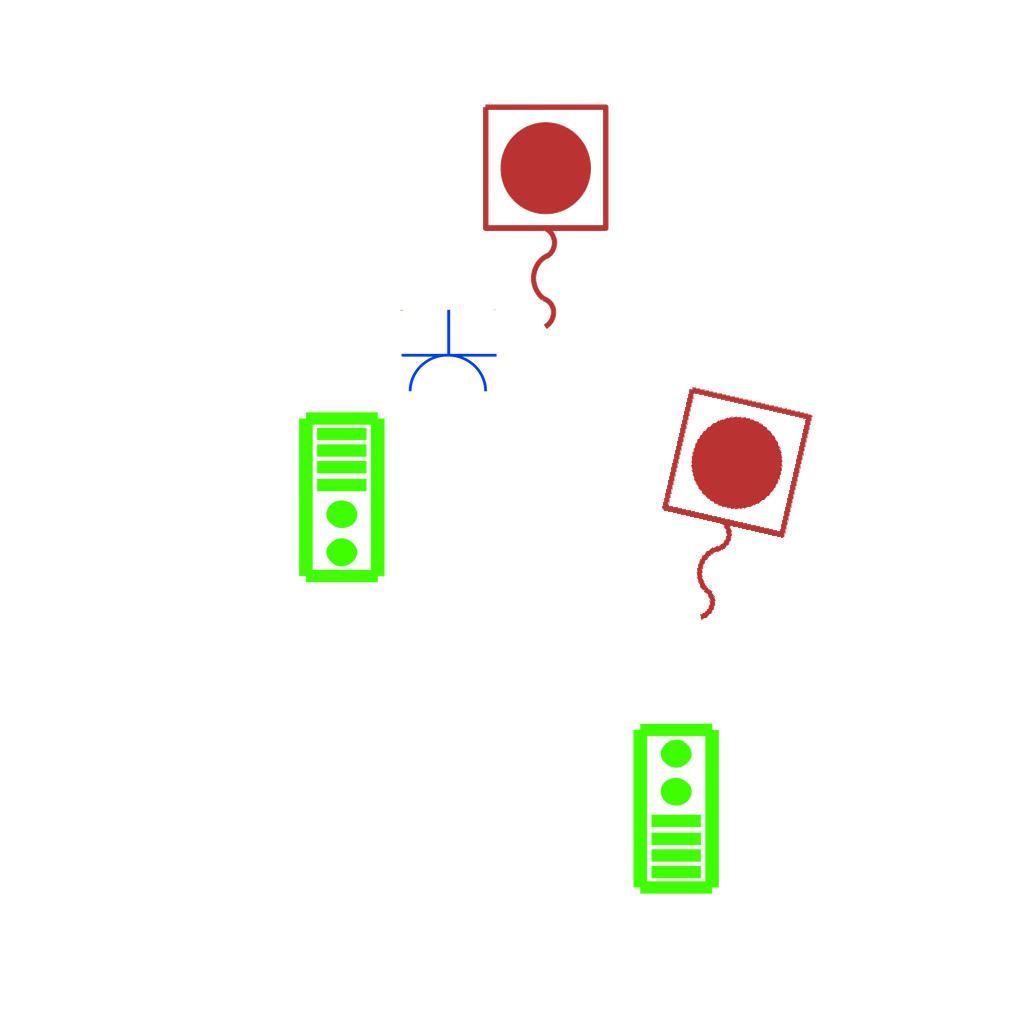Gegensprechanlage_mit_Video: (627, 720, 722, 896), (296, 410, 391, 586)
Schukosteckdose_einfach: (398, 309, 498, 396)
Zugtaster: (626, 375, 822, 647), (472, 96, 616, 340)
